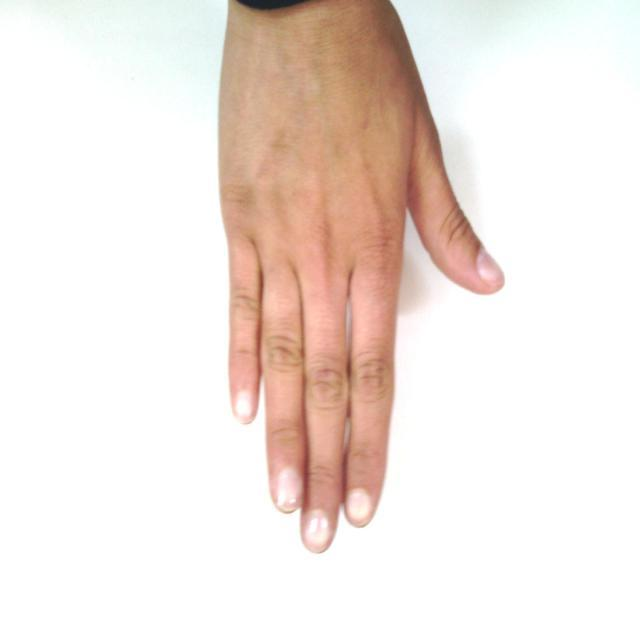Fingernail: (305, 512, 330, 550), (277, 470, 301, 509), (478, 250, 503, 285), (347, 490, 371, 524), (236, 393, 253, 420)
